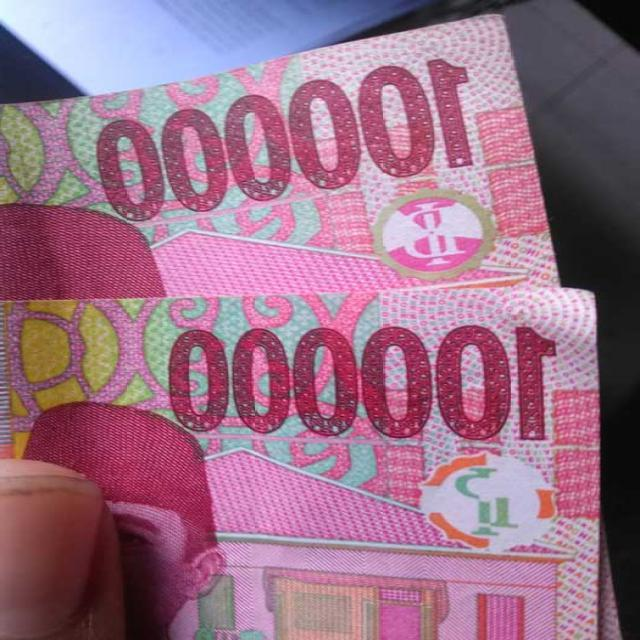seratus ribu rupiah: (0, 9, 609, 640)
